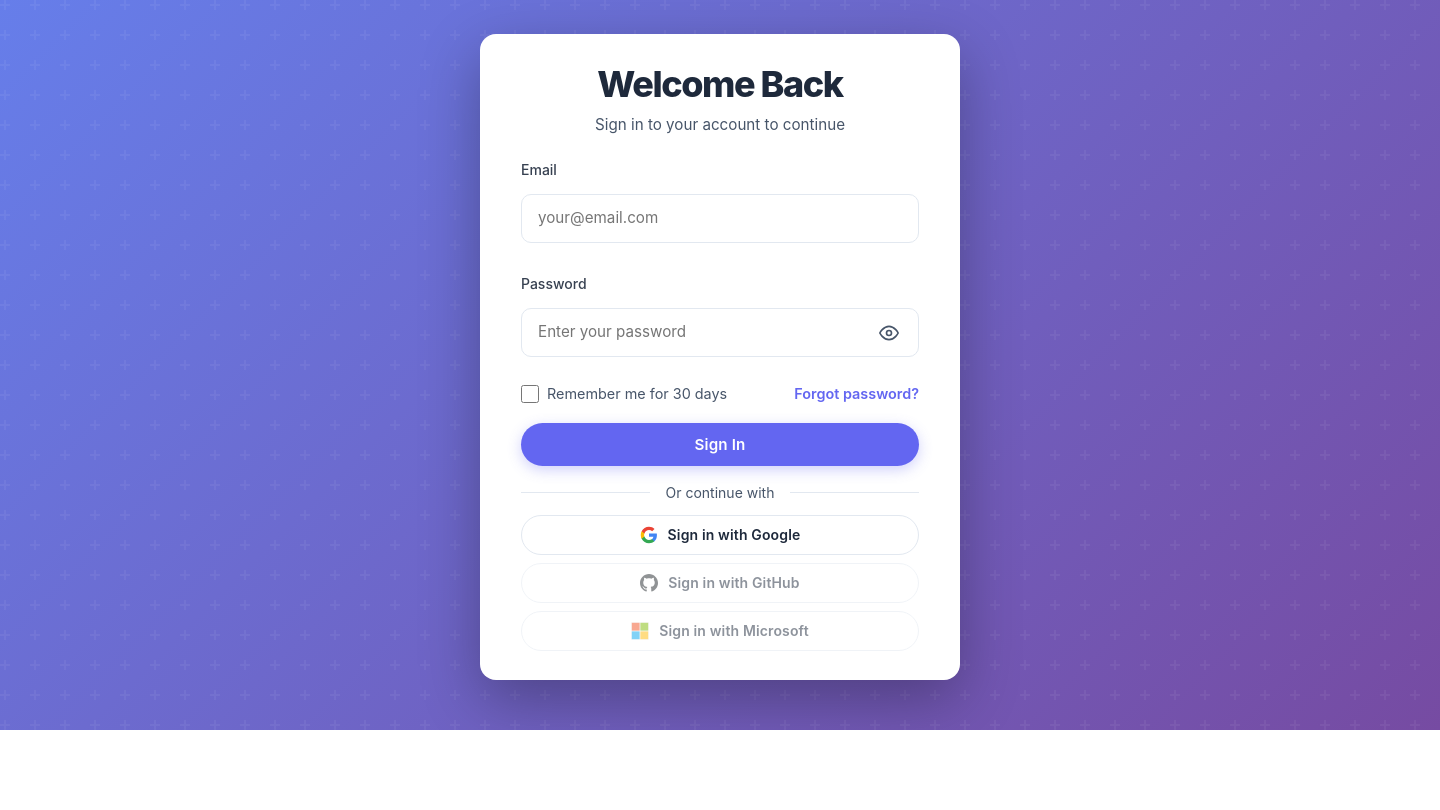
Scenario: Login Page › Form validation › shows error when email is invalid
Type "invalid-email" into the field labelled "Email". click: coordinates (720, 218)
box: [521,194,919,243]
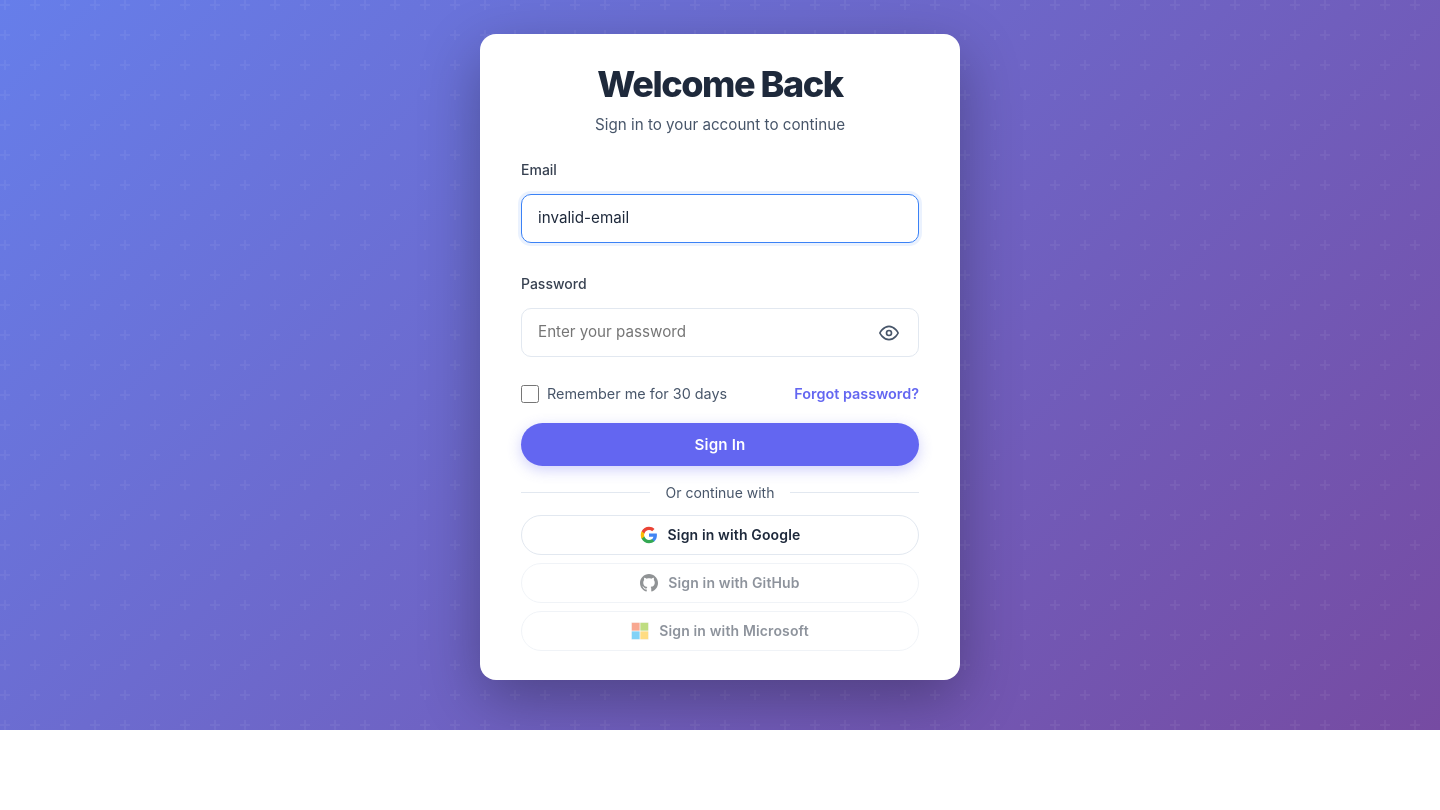
Click the button "Sign In". click: coordinates (720, 444)
box: [521,423,919,466]
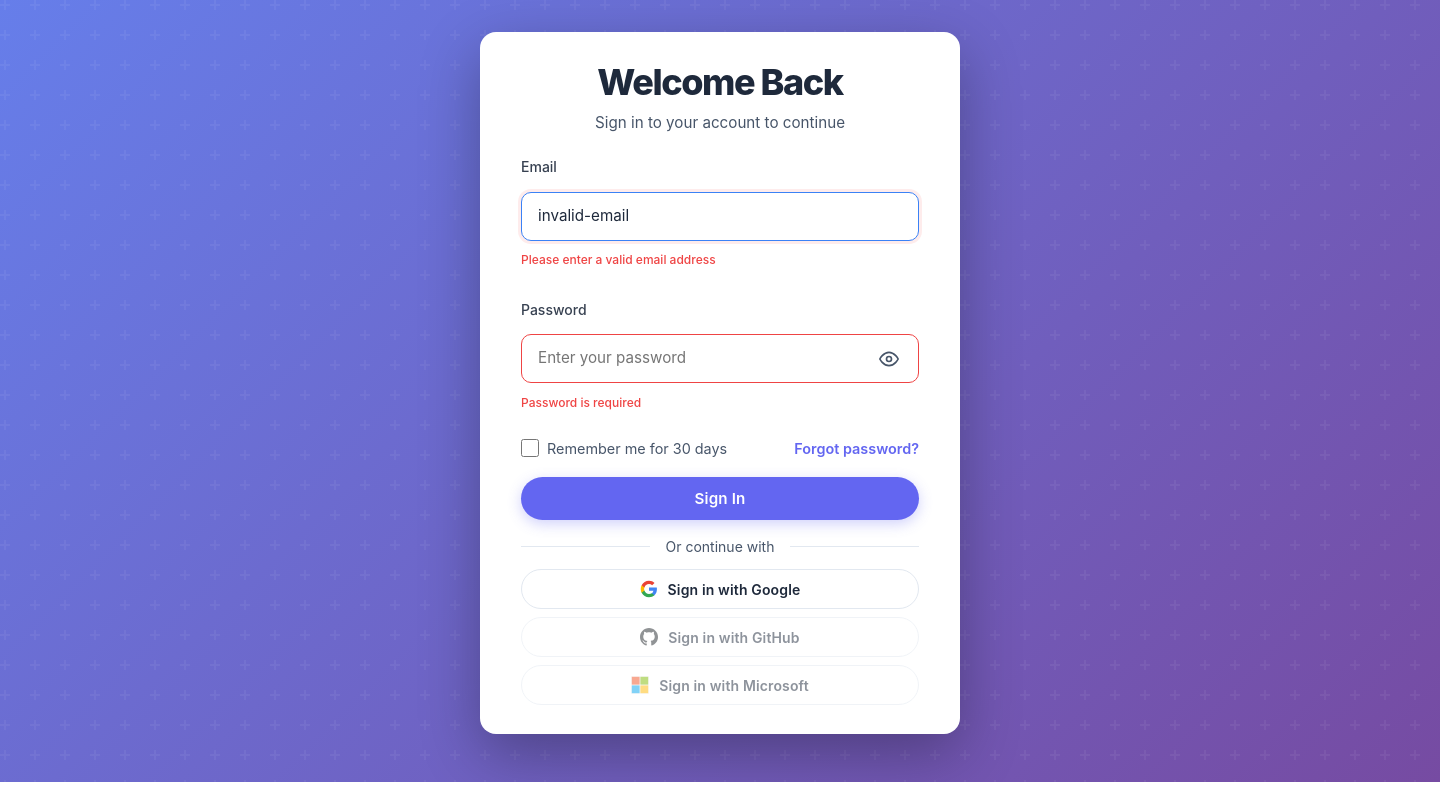
Expected: the text "Please enter a valid email address" is shown, [521,252,716,267]
